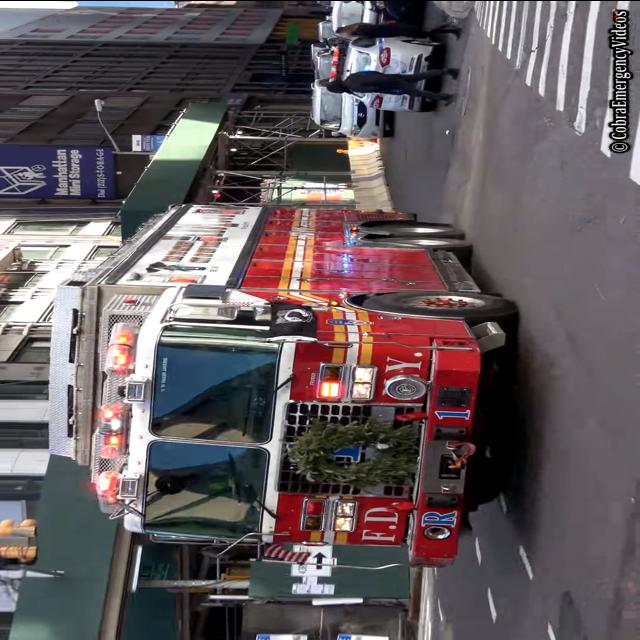emergency-vehicles: (34, 166, 526, 586)
